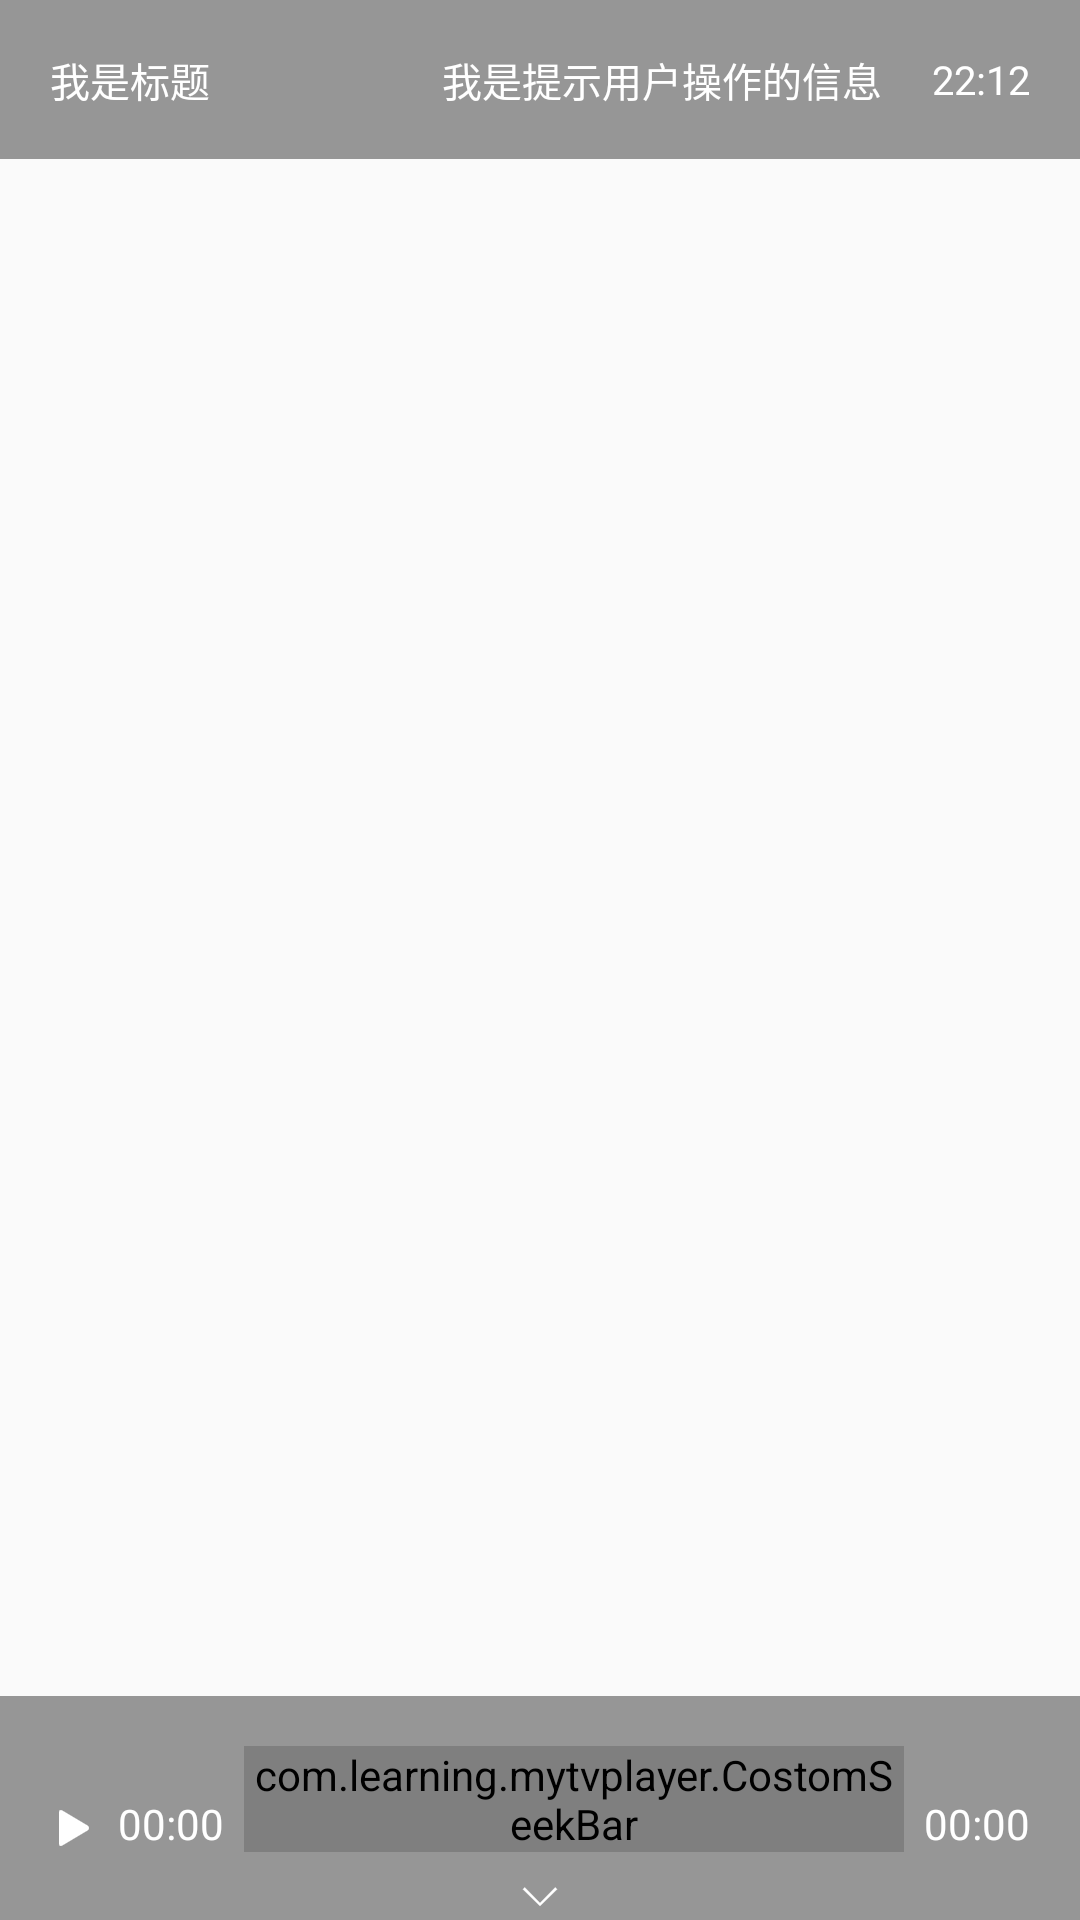

Screen size 1080x1920. Icon name, then its center in pixels as (x=x, y=y):
down: (x=540, y=1896)
